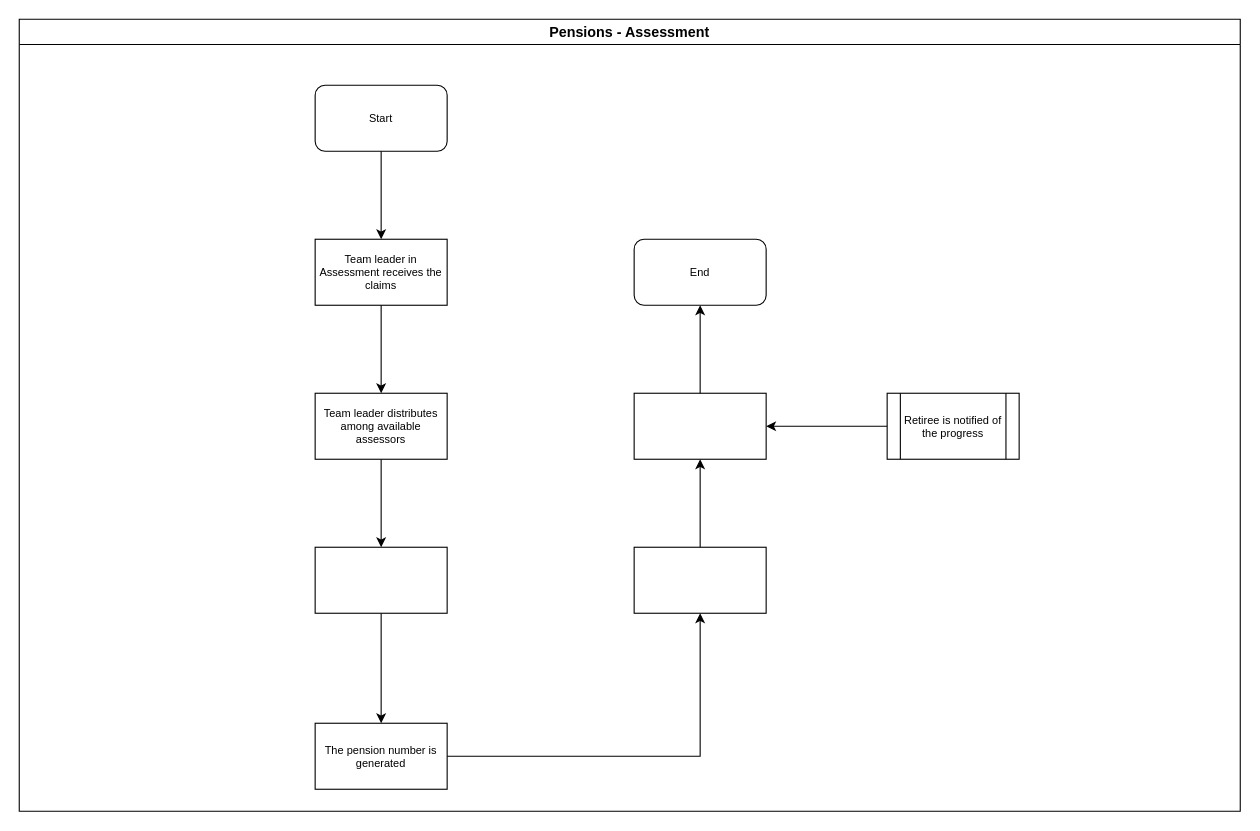
The diagram is 1260 pixels wide and 831 high, and some of its shapes have lost their labels. The shapes that lost their labels are listed below. From the top down, each one's centre as x and y in pixels, then its label:
At pixel 699 425: "Claim sent to Directorate for approval and an alert is sent to the approver".
At pixel 380 579: "The assessor validates the type of award against the attached documents".
At pixel 699 579: "Assessor appends a digital signature, stamp".
